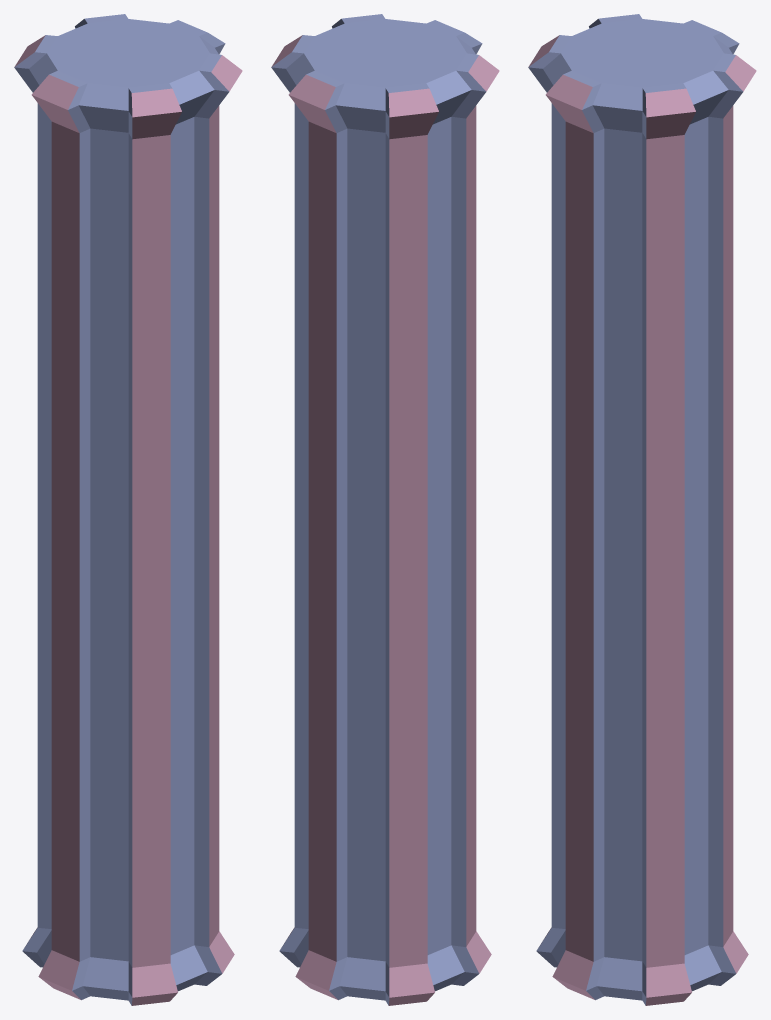
File: PillarLVL1.fbx
3 views of the same model, side by side, from view 1: azimuth 30°, elevation 25°; view 2: azimuth 150°, elevation 25°; view 3: azimuth 270°, elevation 25° (orthographic).
Visible parts, largest first — view 1: Cylinder; view 2: Cylinder; view 3: Cylinder.
Part boxes in pixels (box(x1,y1,x2,y2)): Cylinder: box(14, 14, 242, 1005); Cylinder: box(271, 14, 499, 1005); Cylinder: box(528, 14, 756, 1005).
Size of the model in its own units: 300 by 1325 by 300.
